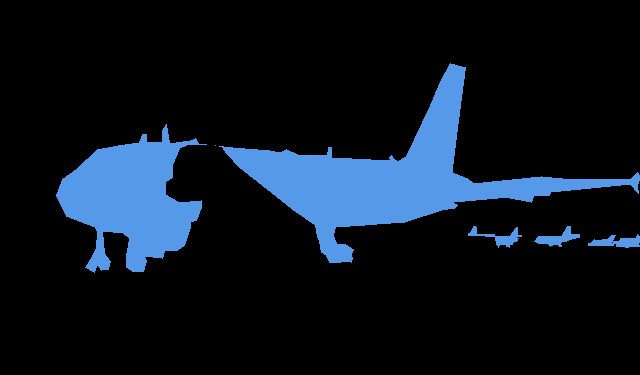Airplane: (56, 63, 640, 272), (468, 226, 521, 247), (534, 226, 580, 247), (612, 234, 640, 248), (588, 235, 616, 246)
